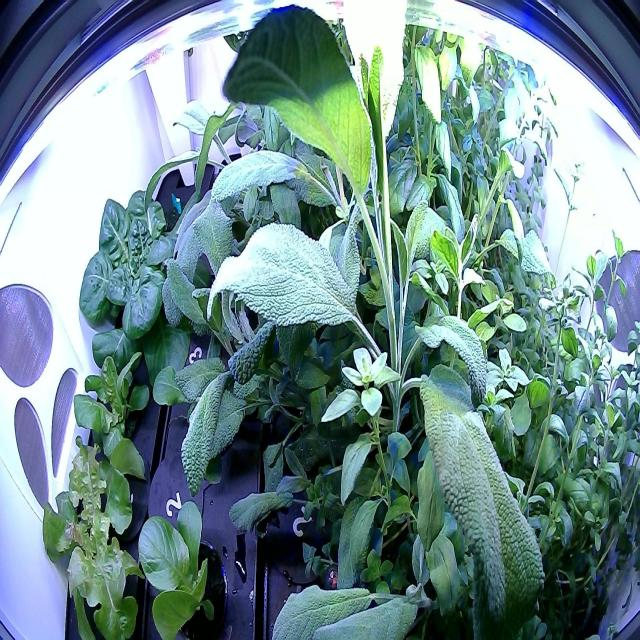Ready: (62, 178, 214, 386)
young: (126, 490, 242, 638), (65, 341, 154, 505)
